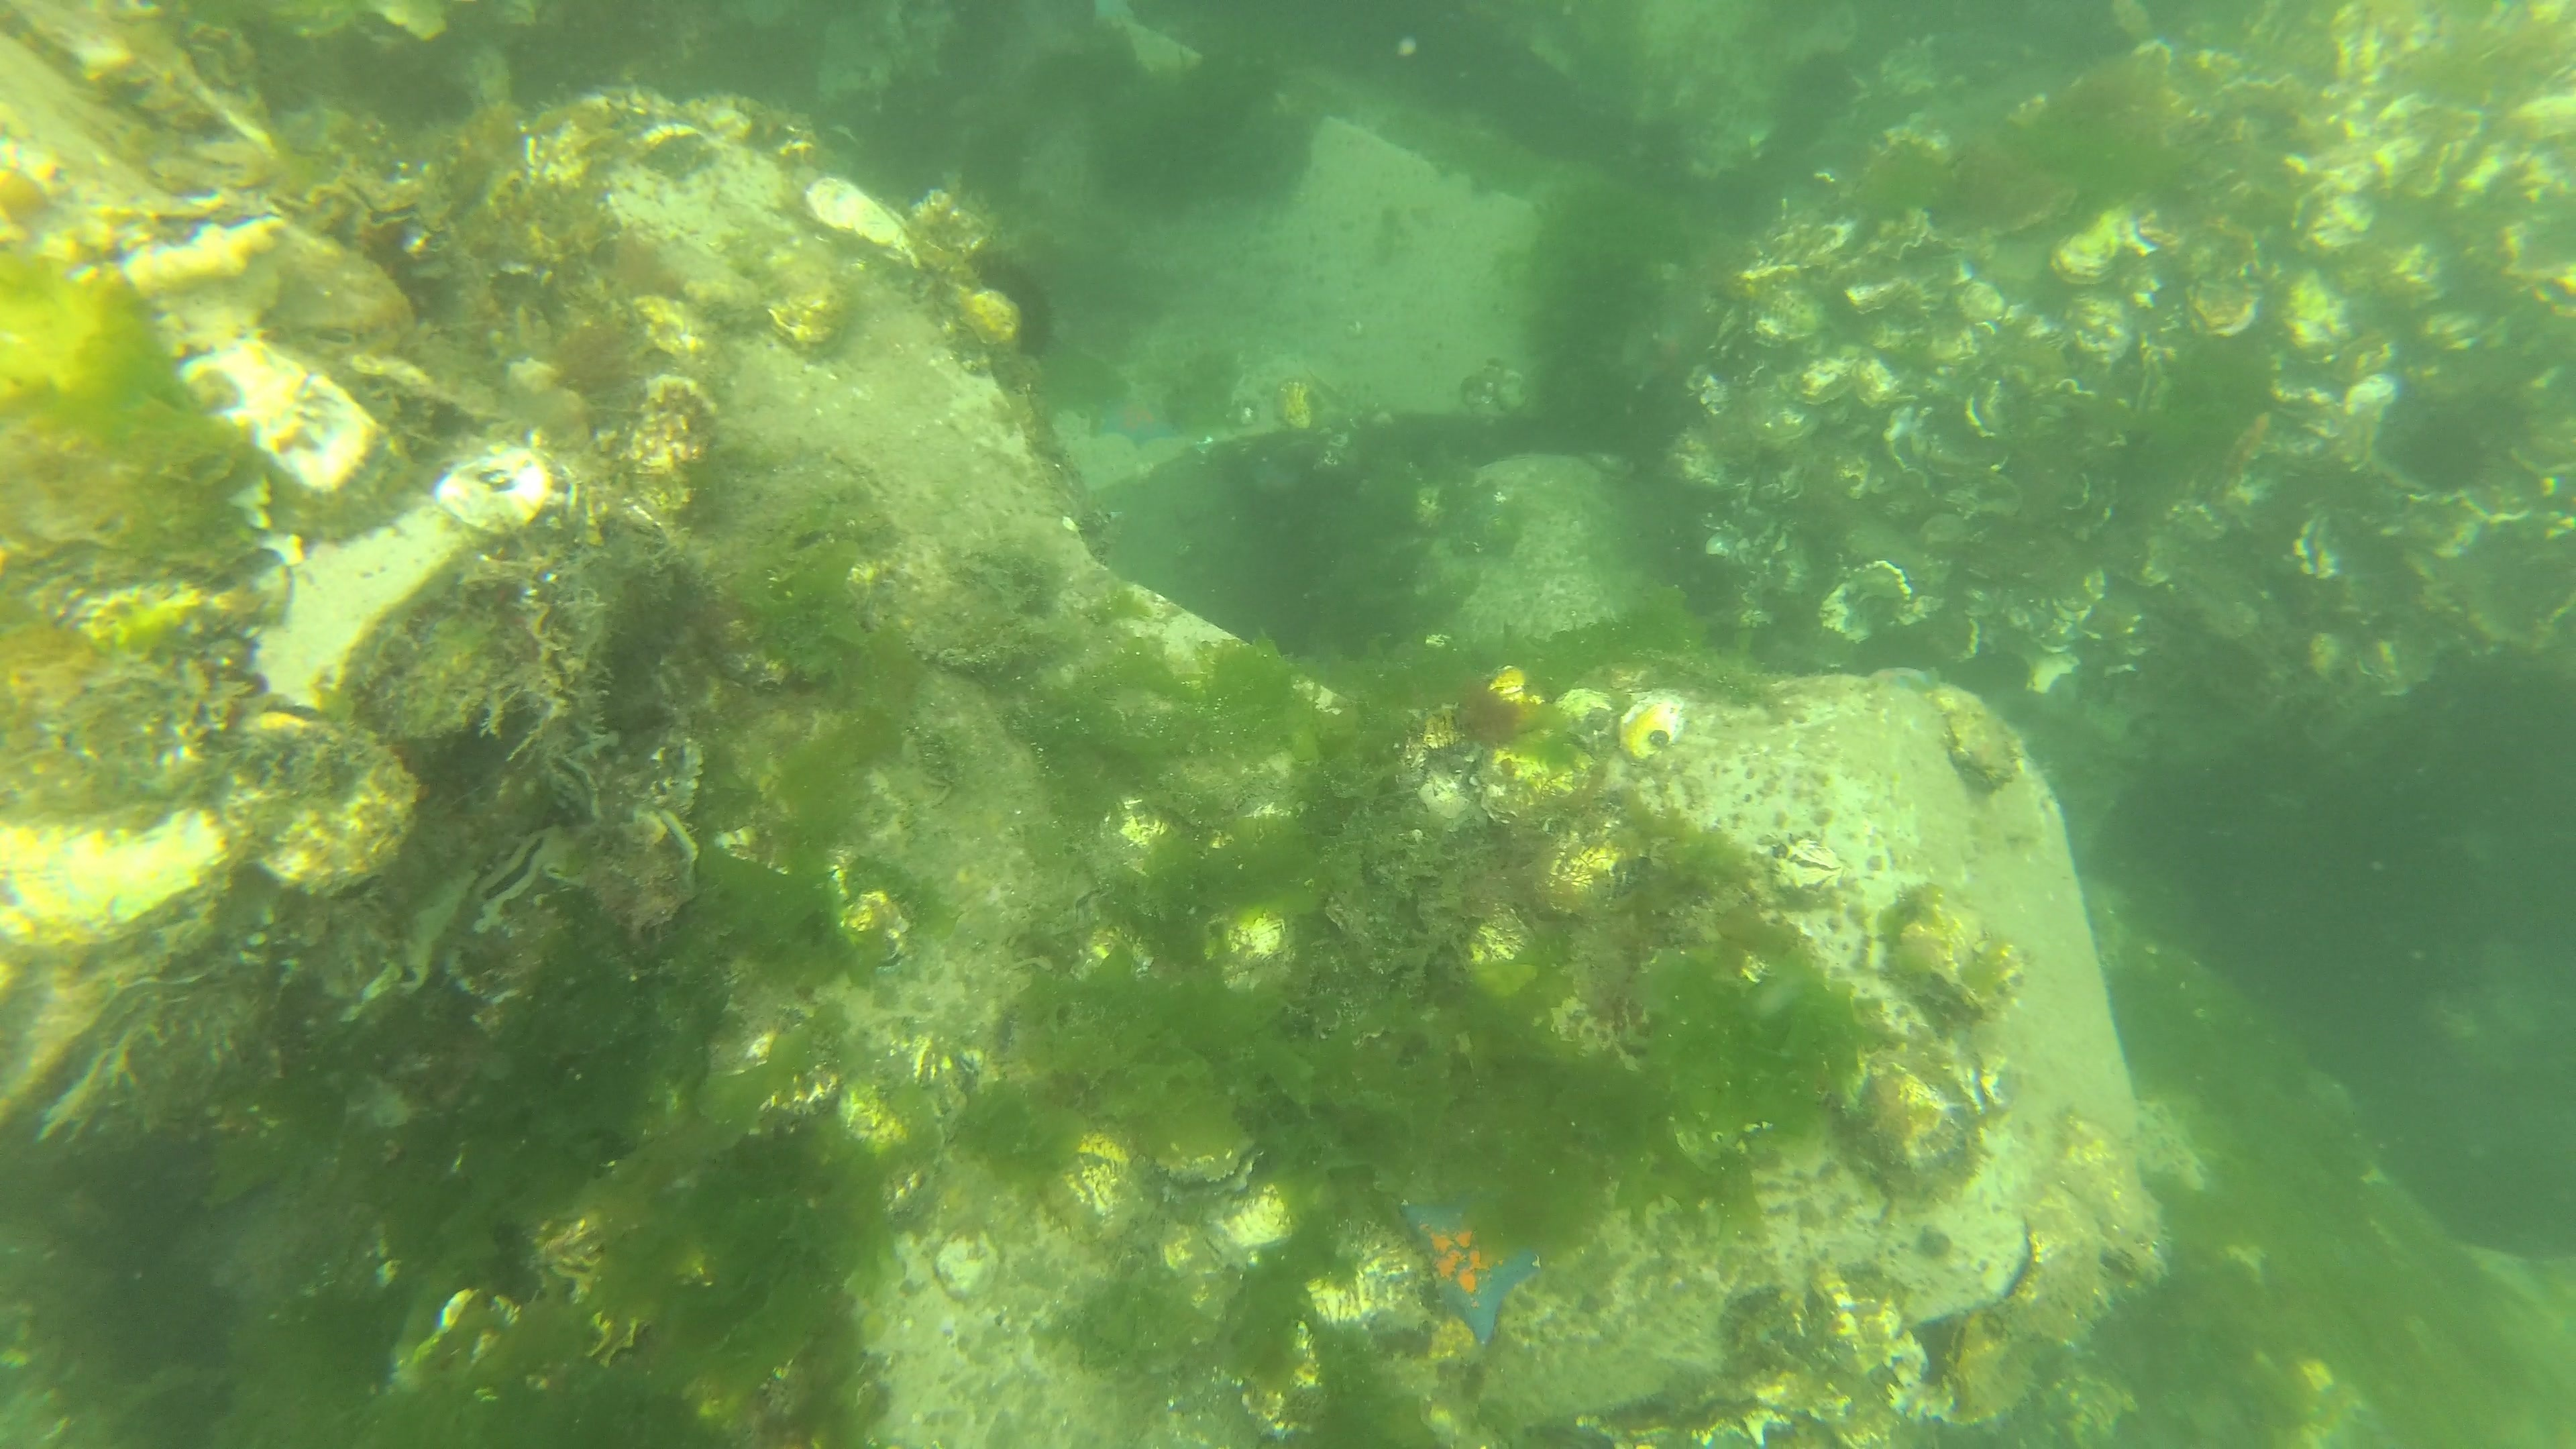echinus: (964, 241, 1060, 364)
starfish: (1391, 1196, 1548, 1352), (1088, 391, 1184, 453)
